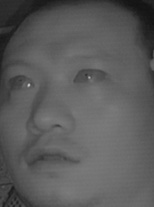eye: (73, 66, 109, 88), (8, 71, 39, 91)
mouth: (20, 140, 84, 175)
